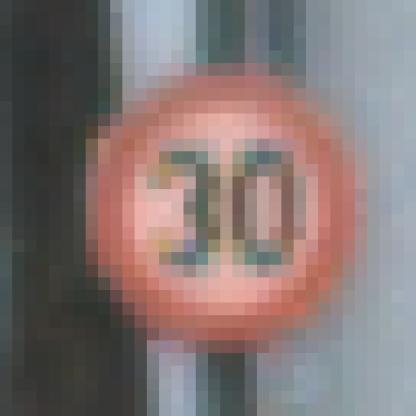Speed Limit 30: (95, 76, 348, 342)
